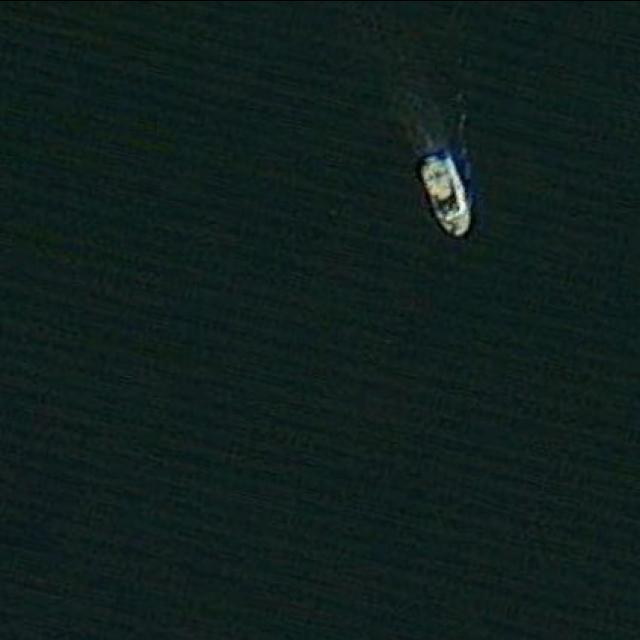ship: (416, 150, 474, 238)
